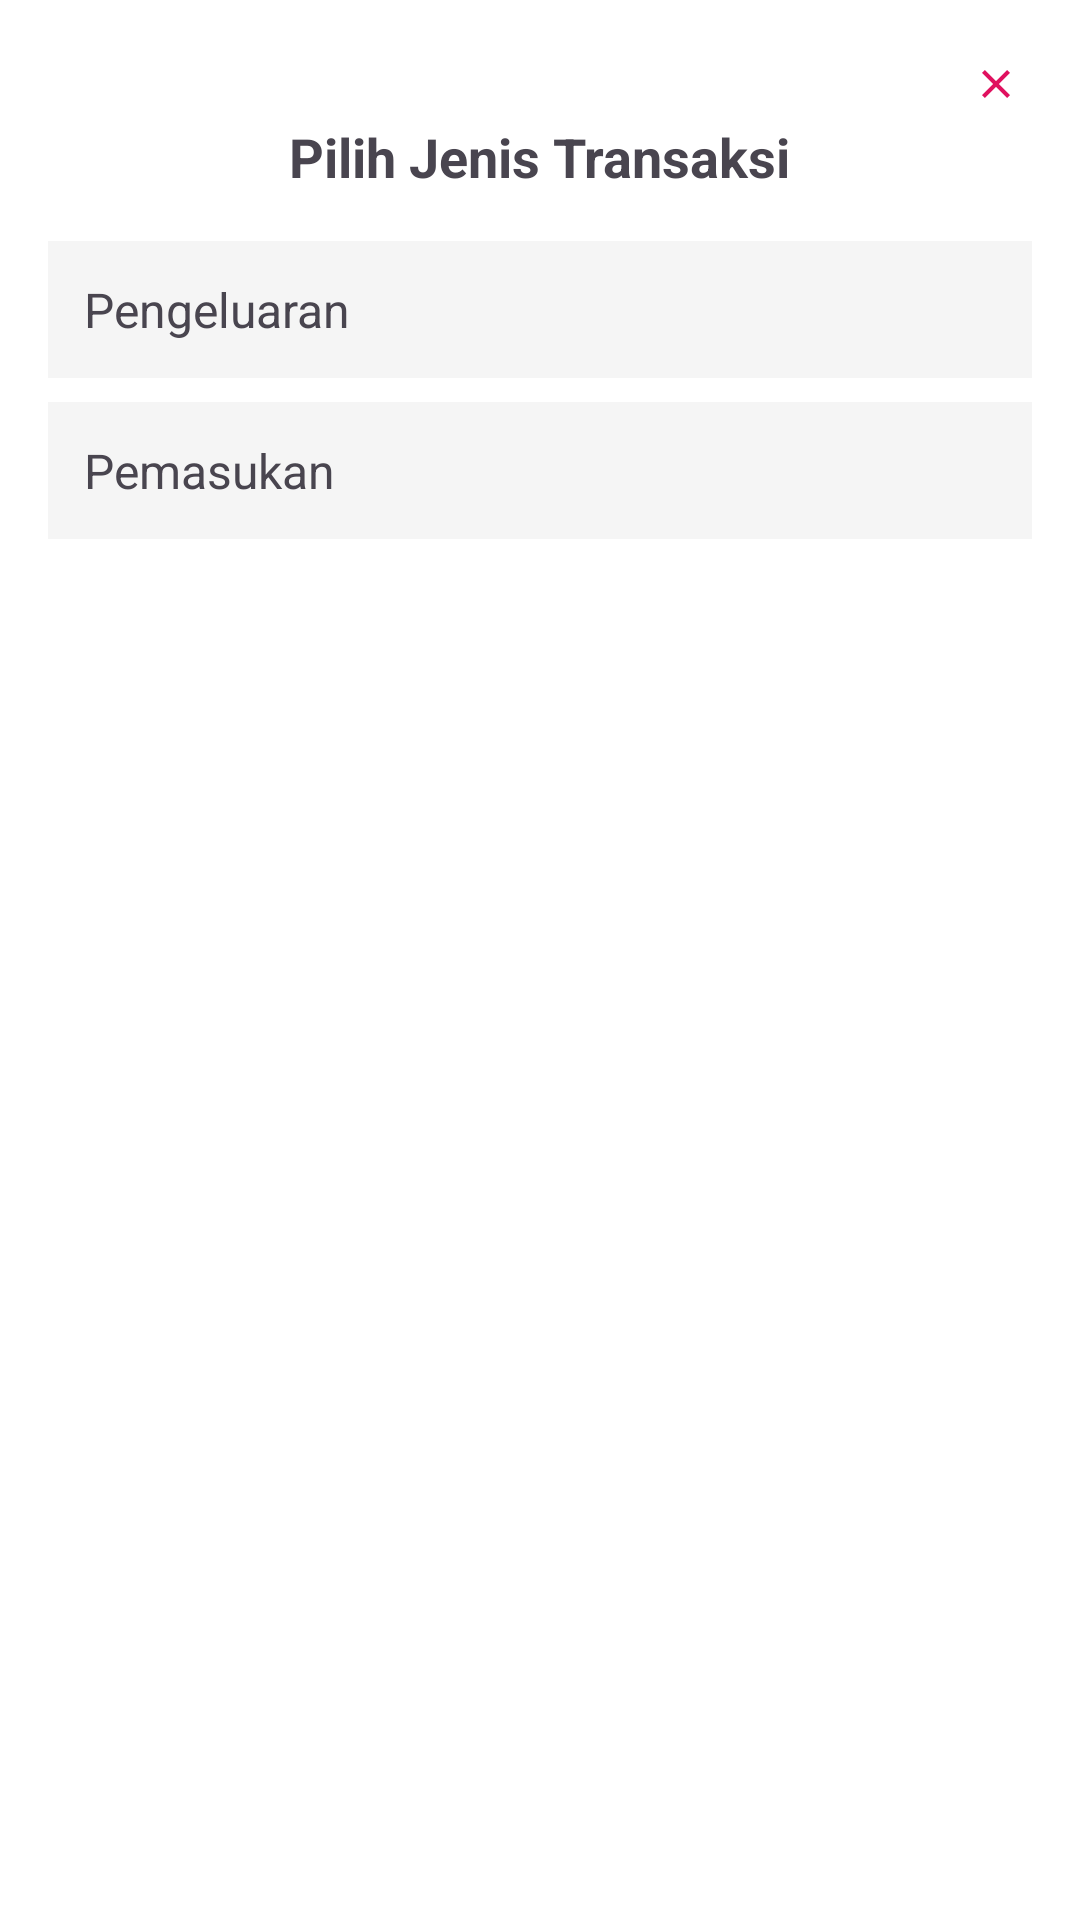

Where to tap for icons on this 1080w x 1920h app screen, as point (x, y):
Tutup: point (996, 84)
